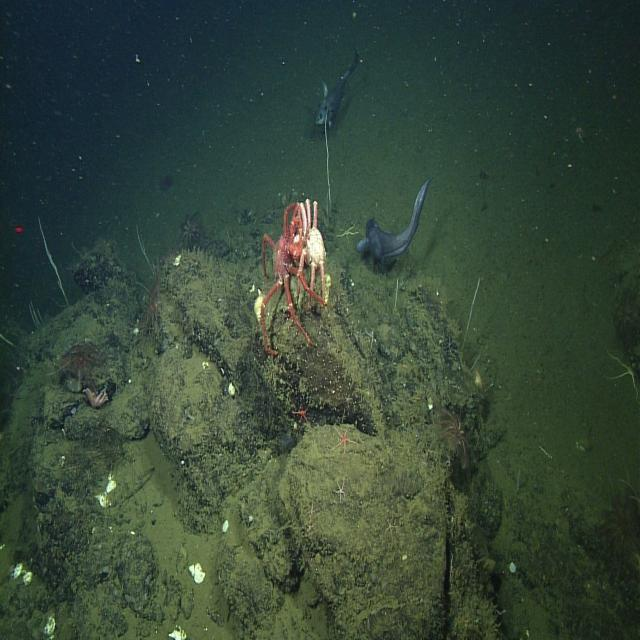Brittle Star: (330, 419, 359, 459), (379, 506, 402, 544), (292, 398, 313, 427), (333, 475, 349, 507)
Not Brittle Star: (253, 191, 321, 360), (353, 170, 438, 278), (590, 476, 639, 588), (312, 43, 362, 136), (134, 260, 174, 342), (433, 398, 476, 466), (458, 270, 484, 368), (177, 209, 207, 253), (188, 559, 206, 586), (157, 170, 176, 193), (157, 170, 175, 194), (227, 379, 237, 398), (248, 512, 253, 524)
